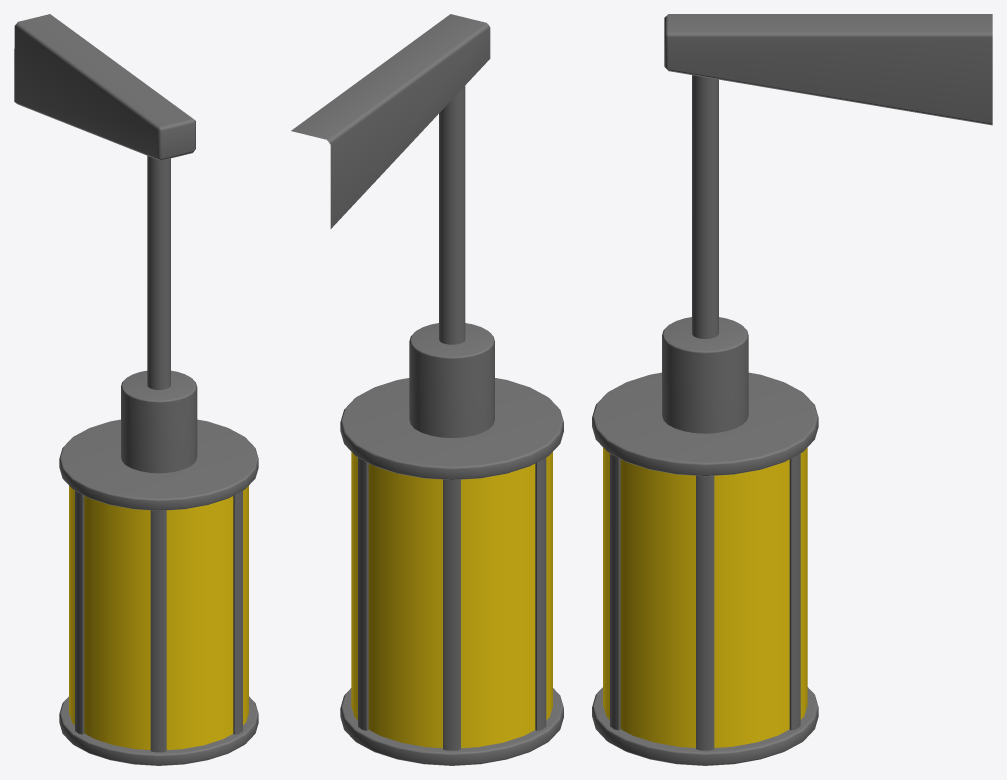
Rendered from Farm_7_Lamp_1.glb.
3 renders of one model, left to right at view 1: azimuth 30°, elevation 25°; view 2: azimuth 150°, elevation 25°; view 3: azimuth 270°, elevation 25°, orthographic. The views are drawn at different scales.
Visible parts, largest first — view 1: Farm_7_Lamp_1; view 2: Farm_7_Lamp_1; view 3: Farm_7_Lamp_1.
Part boxes in pixels (bbox=[...]): Farm_7_Lamp_1: bbox=[14, 14, 258, 765]; Farm_7_Lamp_1: bbox=[291, 14, 563, 765]; Farm_7_Lamp_1: bbox=[592, 14, 992, 765].
Bounding box in the file's own units: 0.2789 × 0.9414 × 0.4908.
Materials: 1 (1 with a texture image).
